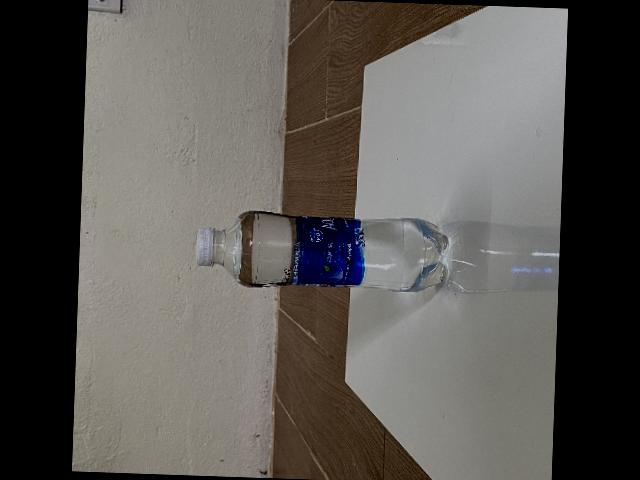aquafina: (195, 210, 451, 292)
